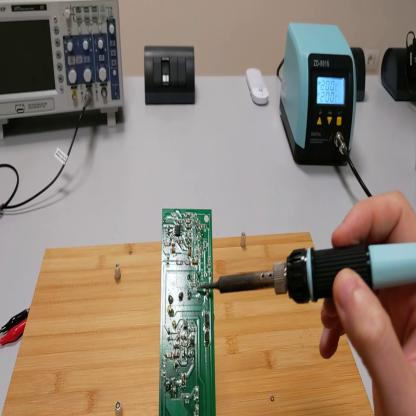hand: (318, 189, 416, 415)
high voltage board: (158, 209, 216, 415)
oscilloscope: (1, 2, 127, 143)
socket: (380, 43, 416, 103), (350, 47, 368, 108)
welder probe tip: (201, 241, 416, 306)
welder station: (279, 22, 358, 174)
working area: (2, 231, 377, 416)
